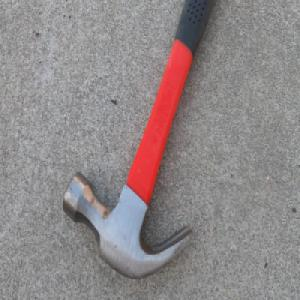Hammer: (61, 0, 219, 284)
